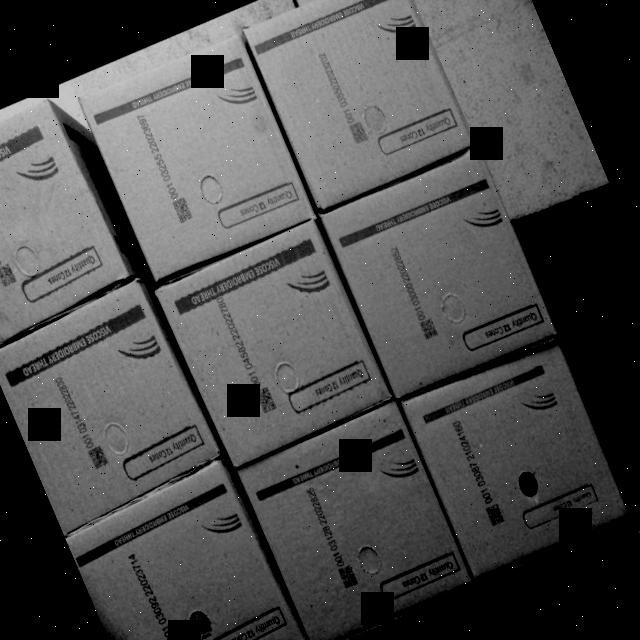box: (74, 25, 314, 287), (394, 328, 635, 584), (322, 151, 556, 402), (154, 222, 393, 466), (237, 401, 472, 640), (0, 284, 220, 534), (243, 0, 476, 214), (62, 461, 313, 640), (0, 92, 131, 345)
